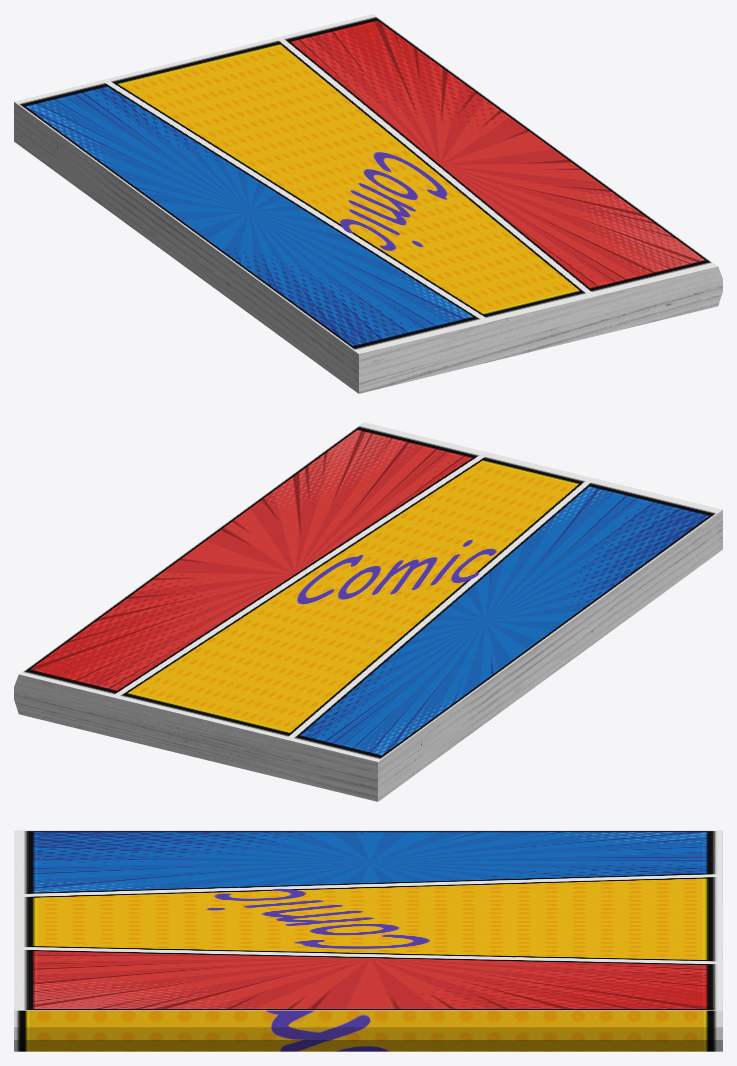
Rendered from TNP0110031.fbx.
The picture shows the model from 3 angles, top to bottom: view 1: azimuth 30°, elevation 25°; view 2: azimuth 150°, elevation 25°; view 3: azimuth 270°, elevation 25°; orthographic projection. The views are drawn at different scales.
Visible parts, largest first — view 1: smTNP0110031; view 2: smTNP0110031; view 3: smTNP0110031.
Boxes of the visible parts, x1,y1,x2,y2 form: smTNP0110031: [14, 14, 722, 393]; smTNP0110031: [14, 422, 722, 801]; smTNP0110031: [14, 830, 722, 1051].
Bounding box in the file's own units: 24.04 × 2.51 × 39.44.
Materials: 1 (1 with a texture image).
